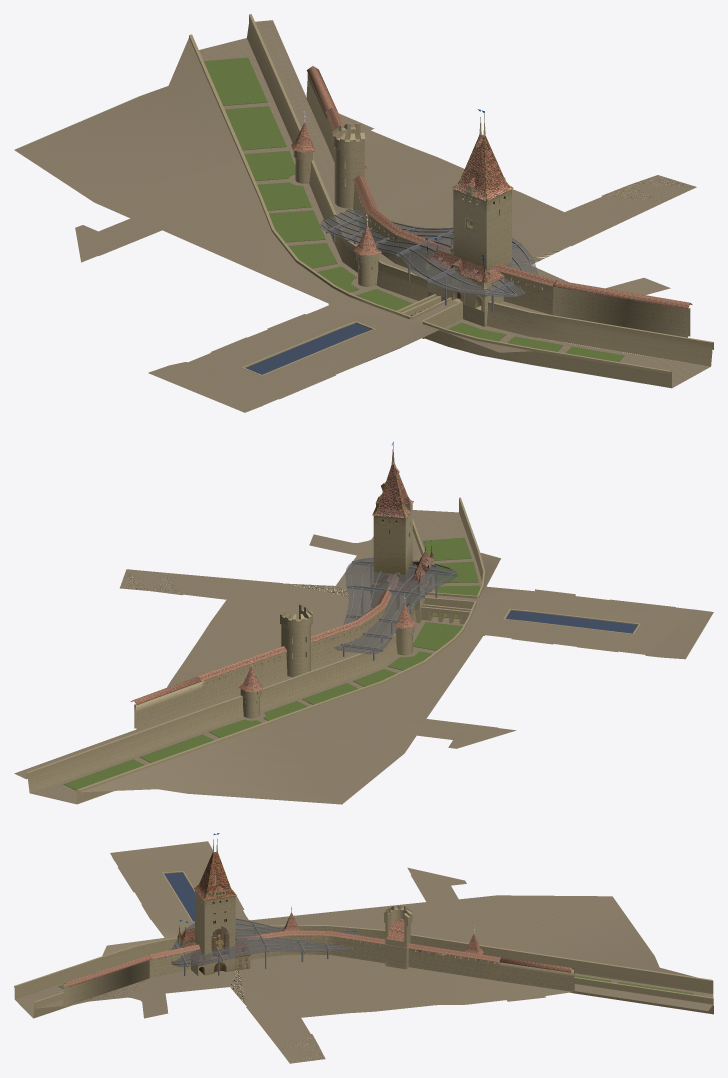
The model's file is Bern-Bahnhofsplatz.fbx.
3 views of the same model, one above another, from view 1: azimuth 30°, elevation 25°; view 2: azimuth 150°, elevation 25°; view 3: azimuth 270°, elevation 25° (orthographic). The views are drawn at different scales.
Parts seen in each view (by area): view 1: Boden, Graben-Grass, Graben-Mauern, Mauer-Wand, Christoffel-Turm, Baldachin-Glas, Mauer-Weg, Mauer-Dach, Christoffel-Basis, Baldachin-Stahl, Mauer-Turm, Graben-Bruecken (+2 smaller); view 2: Boden, Graben-Mauern, Graben-Grass, Mauer-Wand, Baldachin-Glas, Christoffel-Turm, Mauer-Dach, Baldachin-Stahl, Mauer-Turm, Mauer-Weg, Graben-Bruecken, Christoffel-Basis (+2 smaller); view 3: Boden, Graben-Mauern, Mauer-Wand, Christoffel-Turm, Mauer-Dach, Baldachin-Glas, Baldachin-Stahl, Mauer-Turm, Christoffel-Basis, Mauer-Weg, Graben-Grass, Graben-Turm-Dach.
Boxes of the visible parts, box(x1,y1,x2,y2) form: Boden: box(14, 38, 696, 412); Graben-Grass: box(199, 38, 710, 387); Graben-Mauern: box(189, 14, 713, 388); Mauer-Wand: box(306, 73, 690, 337); Christoffel-Turm: box(451, 109, 513, 274); Baldachin-Glas: box(319, 210, 537, 297); Mauer-Weg: box(255, 20, 550, 314); Mauer-Dach: box(306, 66, 692, 309); Christoffel-Basis: box(425, 238, 504, 311); Baldachin-Stahl: box(321, 209, 537, 312); Mauer-Turm: box(332, 123, 367, 208); Graben-Bruecken: box(397, 291, 487, 338); Boden: box(80, 534, 713, 804); Graben-Mauern: box(26, 497, 485, 804); Graben-Grass: box(30, 510, 481, 804); Mauer-Wand: box(134, 588, 396, 729); Baldachin-Glas: box(333, 559, 457, 654); Christoffel-Turm: box(372, 441, 413, 582); Mauer-Dach: box(130, 482, 398, 704); Baldachin-Stahl: box(336, 557, 457, 660); Mauer-Turm: box(279, 604, 312, 677); Mauer-Weg: box(14, 531, 421, 778); Graben-Bruecken: box(415, 585, 478, 624); Christoffel-Basis: box(370, 540, 433, 610); Boden: box(66, 841, 695, 1063); Graben-Mauern: box(14, 925, 713, 1018); Mauer-Wand: box(63, 935, 574, 1006); Christoffel-Turm: box(194, 833, 236, 960); Mauer-Dach: box(63, 930, 573, 987); Baldachin-Glas: box(171, 920, 357, 966); Baldachin-Stahl: box(171, 918, 359, 975); Mauer-Turm: box(383, 905, 412, 969); Christoffel-Basis: box(177, 920, 251, 975); Mauer-Weg: box(35, 984, 712, 1010); Graben-Grass: box(15, 969, 713, 1017); Graben-Turm-Dach: box(282, 912, 483, 954).
Size of the model in its own units: 222 by 69.46 by 296.
